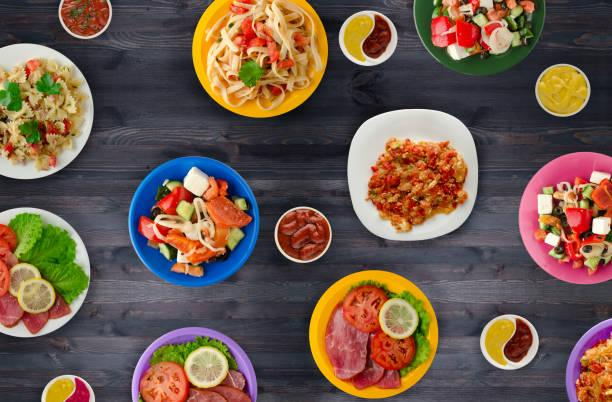Braised Crucian Carp: (347, 108, 477, 242), (127, 156, 256, 285), (308, 270, 437, 398), (191, 0, 326, 119), (1, 41, 94, 178), (517, 152, 610, 285), (1, 206, 92, 337)
